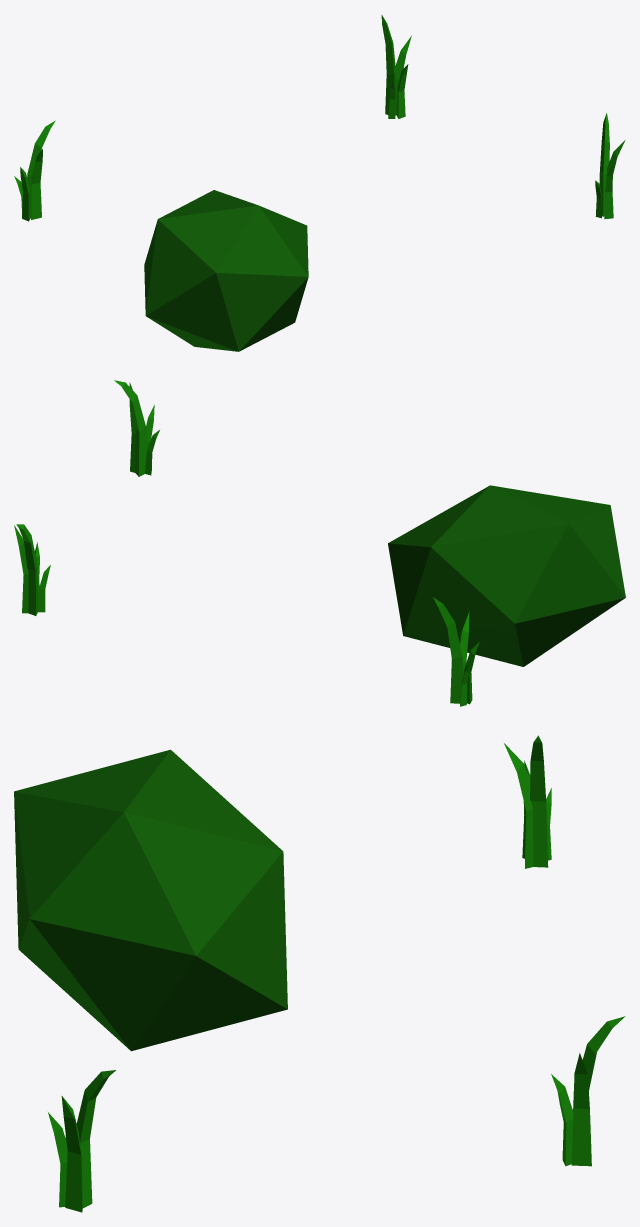
File: street0_1.fbx
The picture shows the model from 3 angles, top to bottom: view 1: azimuth 30°, elevation 25°; view 2: azimuth 150°, elevation 25°; view 3: azimuth 270°, elevation 25°; orthographic projection. The views are drawn at different scales.
Parts seen in each view (by area): view 1: bush.028, Grass.001, Grass, Grass.002; view 2: bush.028, Grass, Grass.001, Grass.002; view 3: bush.028, Grass.002, Grass.001, Grass.
Part boxes in pixels (bbox=[...]): bush.028: bbox=[144, 190, 308, 351]; Grass.001: bbox=[381, 15, 411, 118]; Grass: bbox=[14, 120, 55, 221]; Grass.002: bbox=[595, 113, 625, 219]; bush.028: bbox=[388, 485, 625, 666]; Grass: bbox=[433, 597, 479, 706]; Grass.001: bbox=[14, 524, 50, 615]; Grass.002: bbox=[114, 380, 159, 476]; bush.028: bbox=[14, 749, 287, 1051]; Grass.002: bbox=[48, 1070, 115, 1212]; Grass.001: bbox=[551, 1016, 625, 1166]; Grass: bbox=[504, 735, 551, 868].
Bounding box in the file's own units: 68.29 × 21.29 × 47.85.
